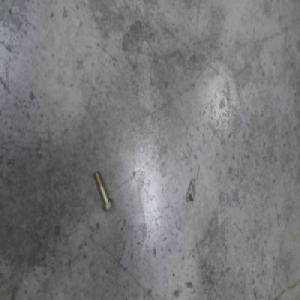Bolt: (92, 168, 112, 212)
